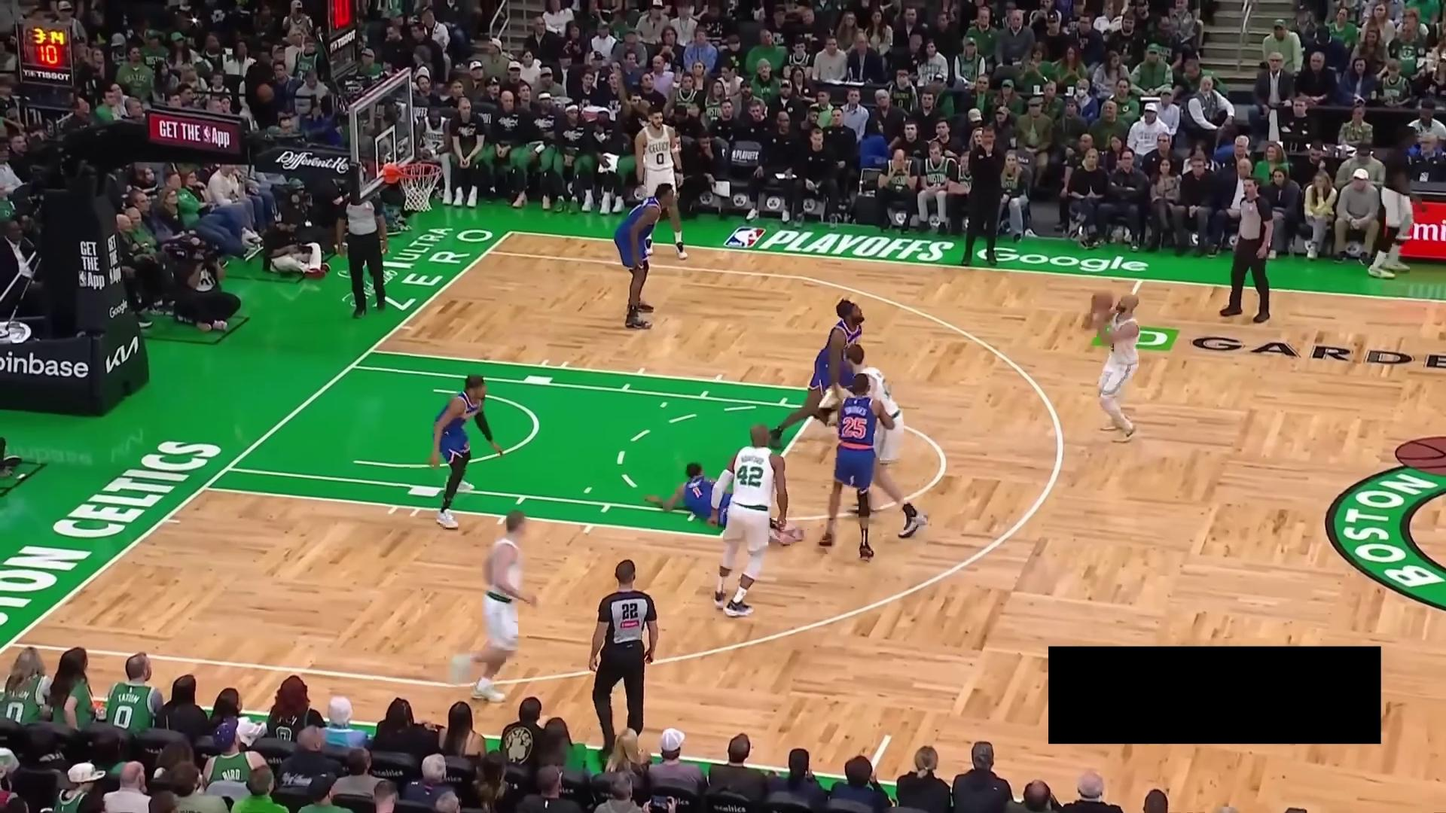ball: (1090, 284, 1115, 314)
number: (737, 462, 766, 491), (841, 415, 870, 444), (692, 484, 703, 498), (656, 152, 665, 165)
player: (835, 341, 934, 541), (448, 504, 541, 706), (705, 419, 791, 623), (811, 368, 898, 563), (768, 295, 870, 444), (647, 460, 810, 552), (423, 367, 506, 530), (630, 106, 691, 263), (611, 183, 676, 330)
player-in-possession: (1078, 286, 1152, 447)
referee: (583, 553, 665, 747), (1215, 174, 1278, 325), (332, 191, 391, 318)
rim: (395, 160, 448, 182)
